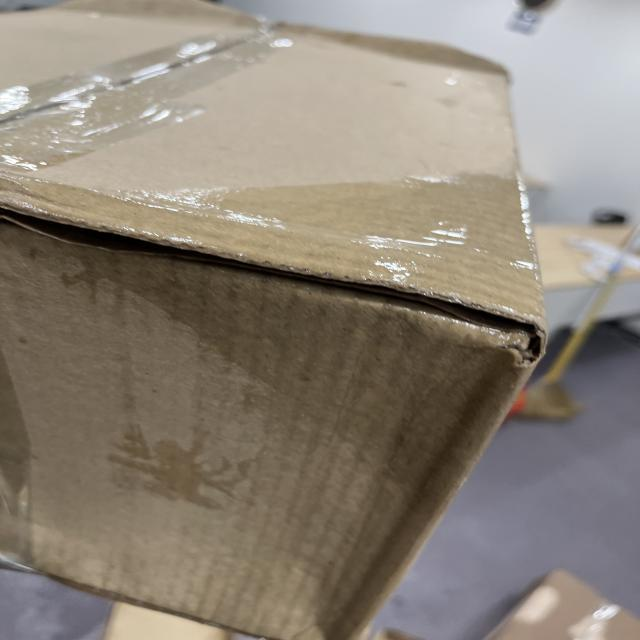wet: (94, 162, 556, 496)
